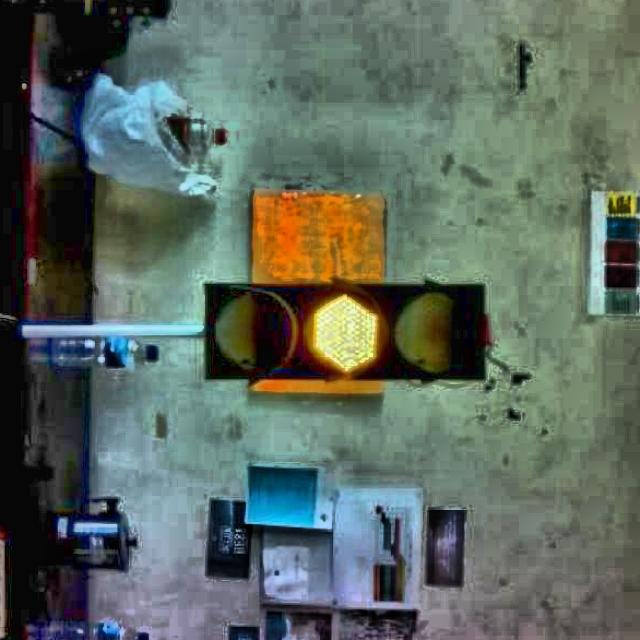yellow: (194, 276, 497, 392)
